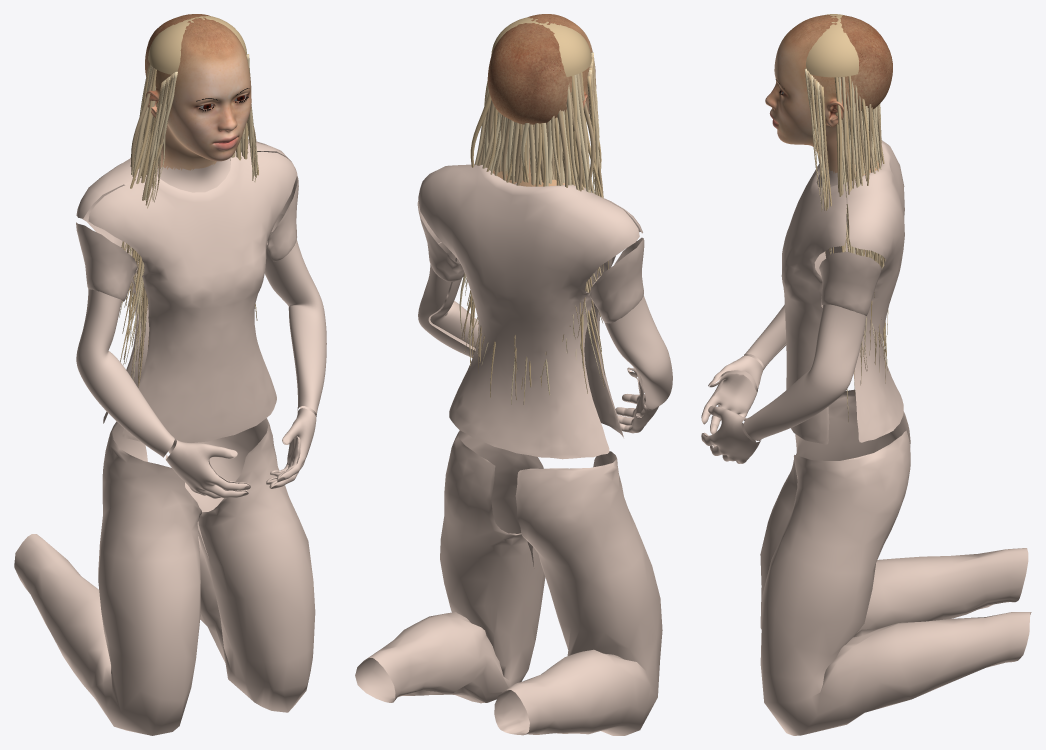
Rendered from riley-blonde-kneeling.glb.
3 renders of one model, left to right at view 1: azimuth 30°, elevation 25°; view 2: azimuth 150°, elevation 25°; view 3: azimuth 270°, elevation 25°, orthographic. The views are drawn at different scales.
Parts seen in each view (by area): view 1: female_casualsuit01, Riley | anatomical body; view 2: female_casualsuit01, Riley | anatomical body; view 3: female_casualsuit01, Riley | anatomical body.
Part boxes in pixels (box(x1,y1,x2,y2)): female_casualsuit01: box(14, 139, 315, 735); Riley | anatomical body: box(76, 14, 326, 498); female_casualsuit01: box(355, 164, 662, 735); Riley | anatomical body: box(418, 14, 672, 433); female_casualsuit01: box(760, 140, 1031, 735); Riley | anatomical body: box(701, 14, 892, 463).
Size of the model in its own units: 0.4508 by 1.24 by 0.545.
10 materials, 5 textured.
